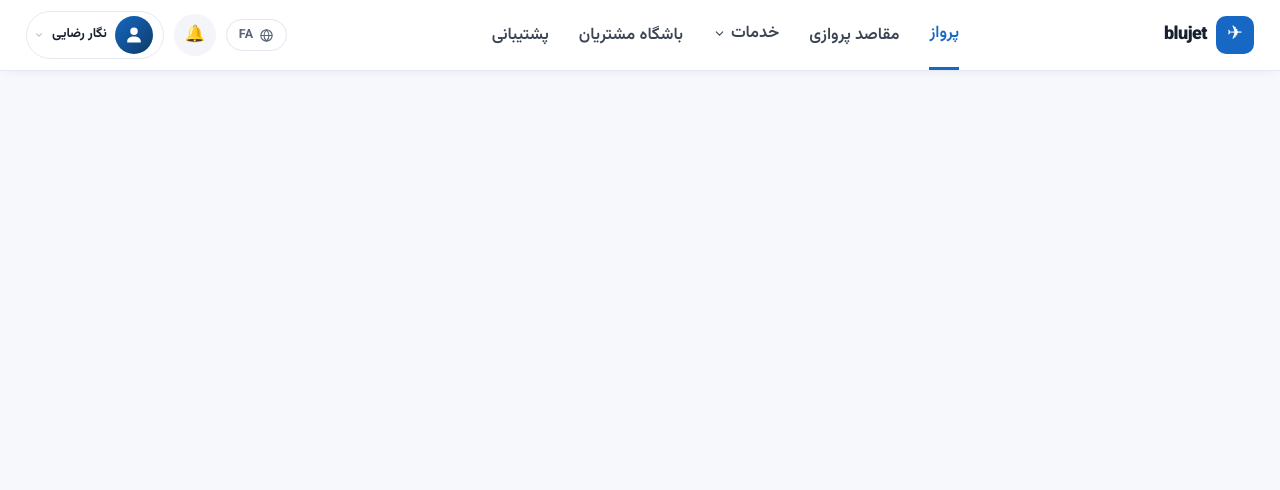
Scenario: PublicHeader — logged-in user › does not show the silver label in the customer profile header
Click the element with test id "public-user-menu-toggle" at (95, 35), box [26,11,164,59]
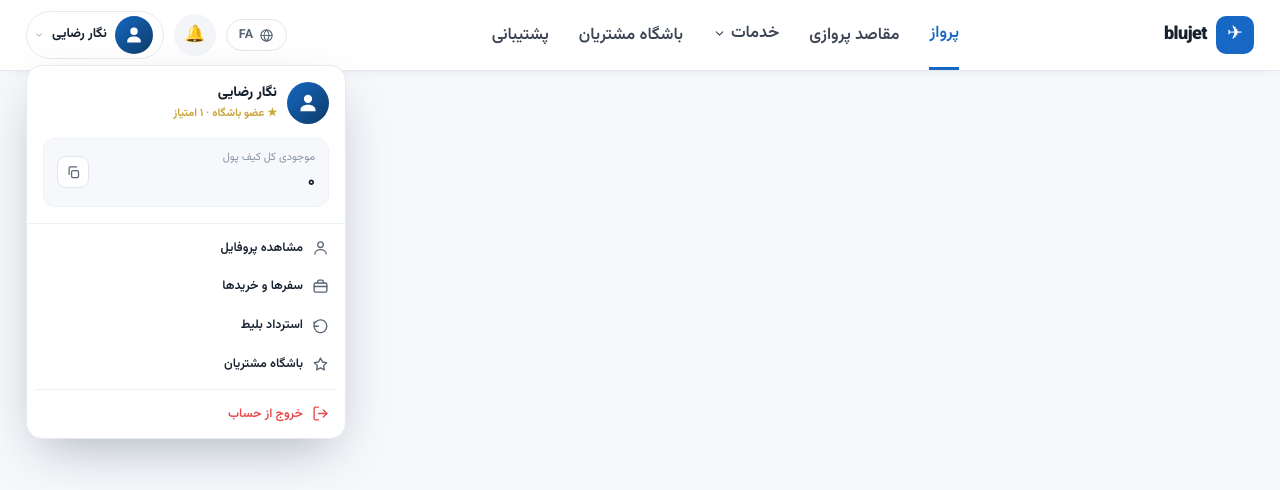
Expected: the element with test id "public-user-menu" shows "عضو باشگاه", [212,105,264,122]
